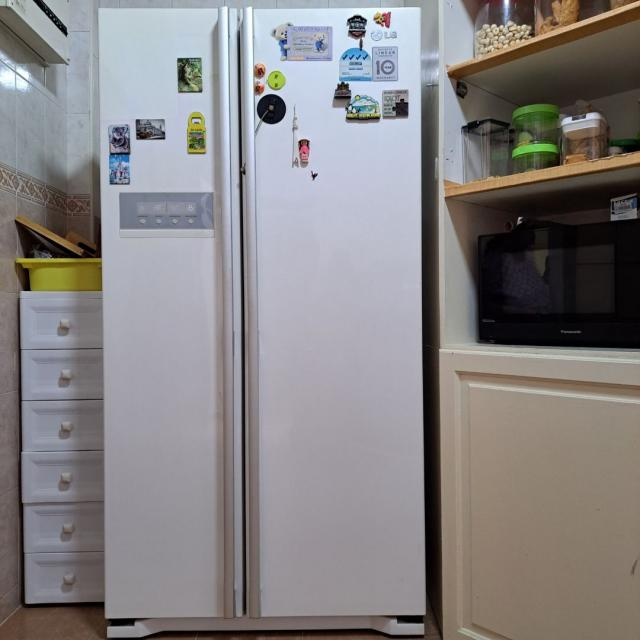refrigerator: (95, 4, 427, 640)
